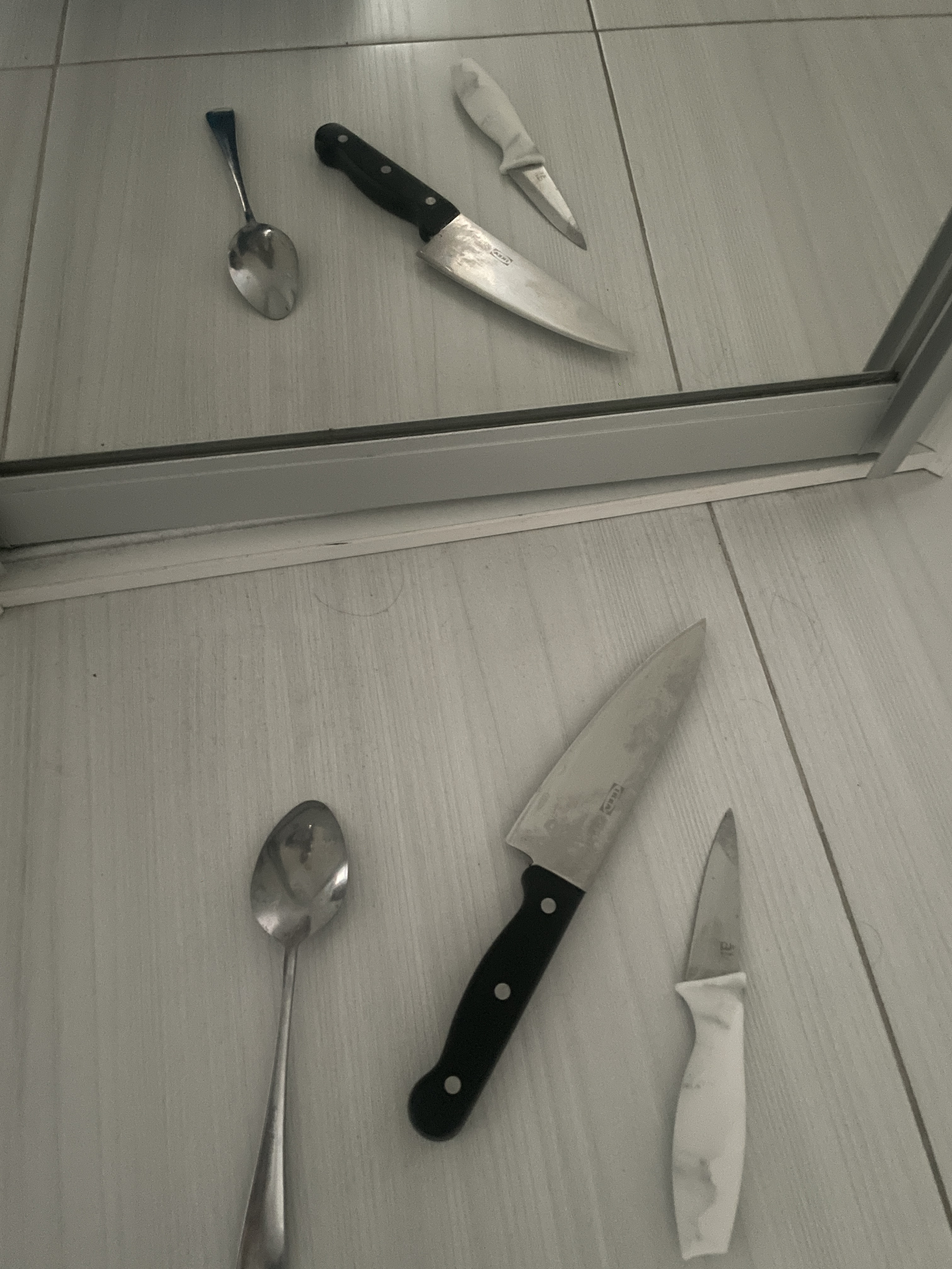knife: (408, 620, 705, 1140), (314, 123, 630, 353), (672, 810, 746, 1260), (453, 58, 586, 249)
spoon: (236, 801, 348, 1269), (206, 109, 298, 320)
